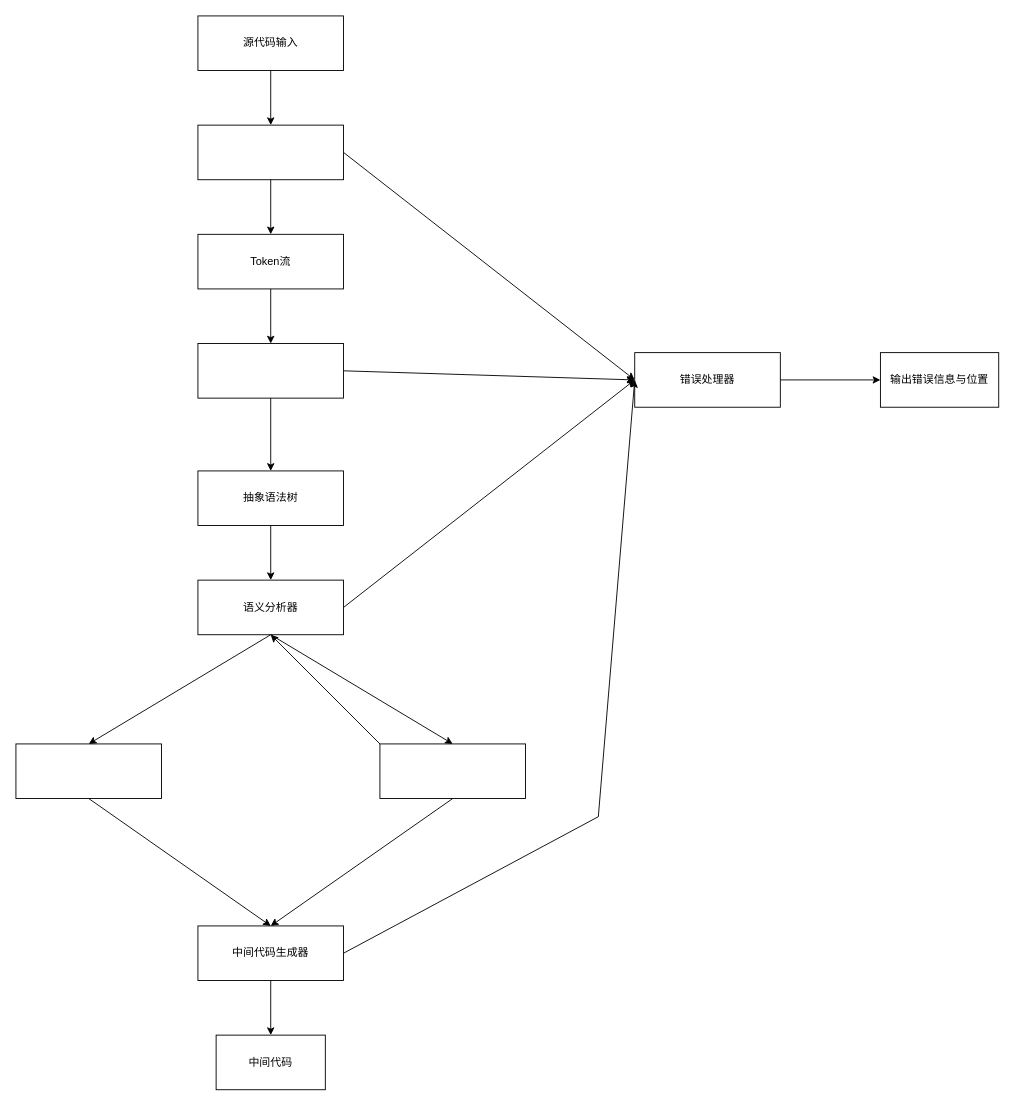
Some shapes in this 1015 by 1106 pixel diagram are drawn without their labels. The shapes that lost their labels are listed below. From the top down, each one's box as (x1, y1, x2, y2) in pixels, then its label:
(197, 124, 344, 180): 词法分析器
(197, 343, 344, 398): 语法分析器
(15, 743, 162, 799): 带着语义信息的语法树
(379, 743, 526, 799): 符号表
